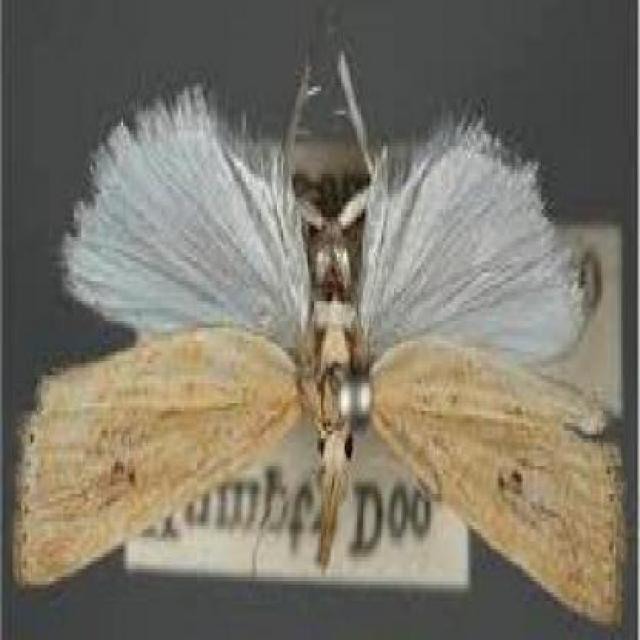stem-borer: (8, 29, 626, 629)
